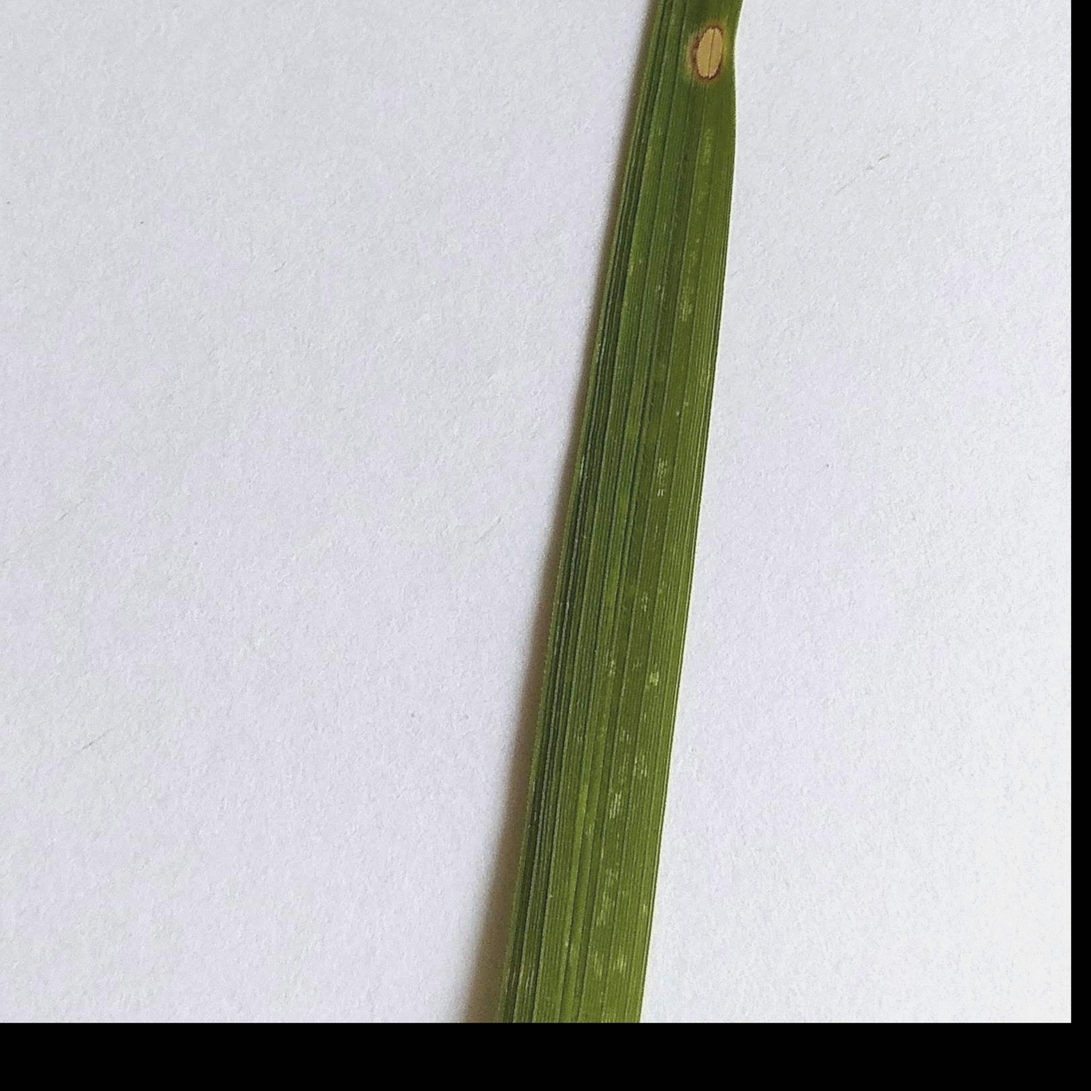Brown_Spot: (683, 0, 751, 86)
